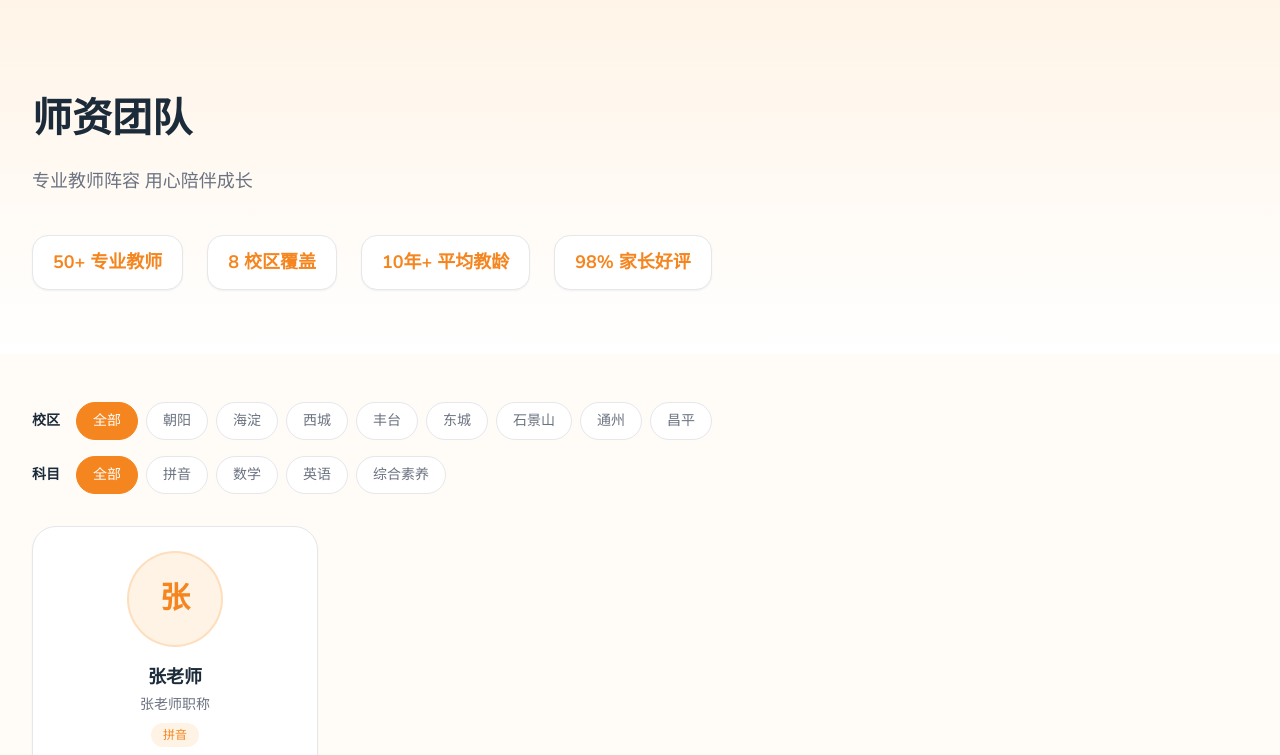
TeamPage 页面 › 点击教师卡片展开详情
Click the heading "张老师". click: (175, 677)
box: [148,663,202,691]
(page scrolled)
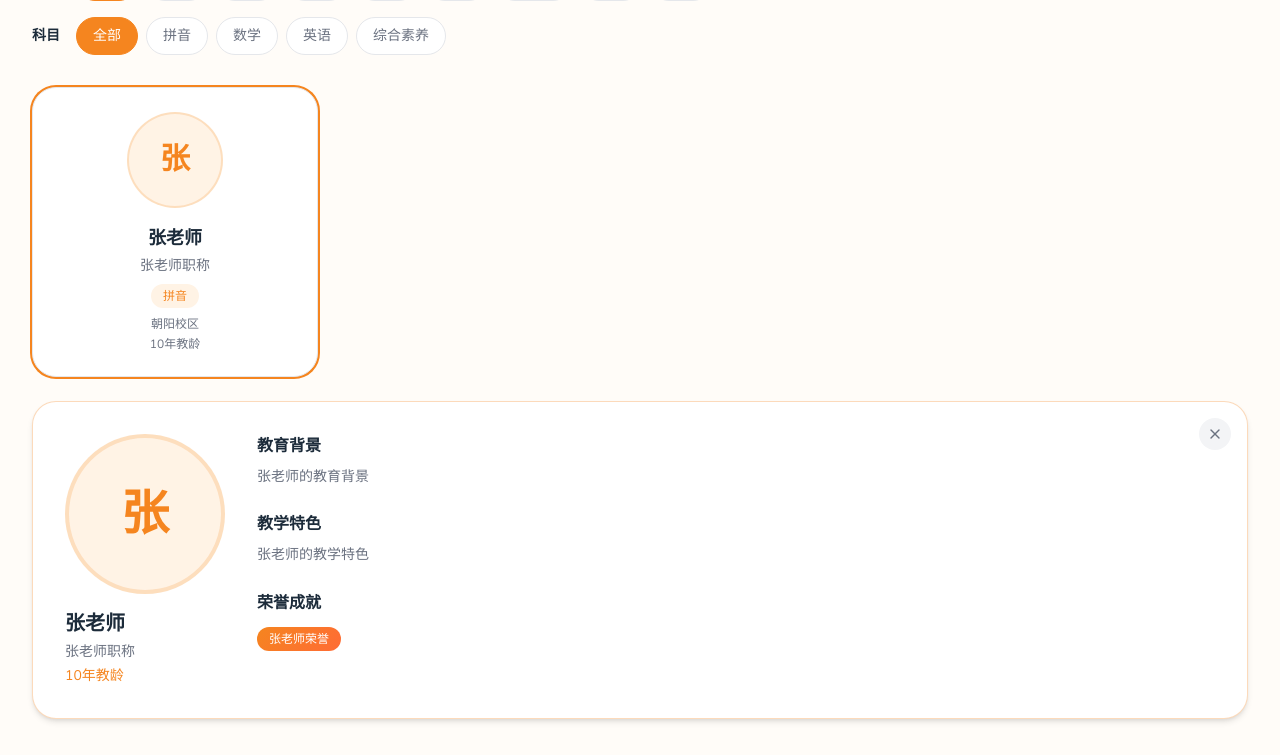
Result: the heading "教育背景" is shown at [257,435,321,457]
Result: the text "张老师的教育背景" is shown at [257,467,369,486]
